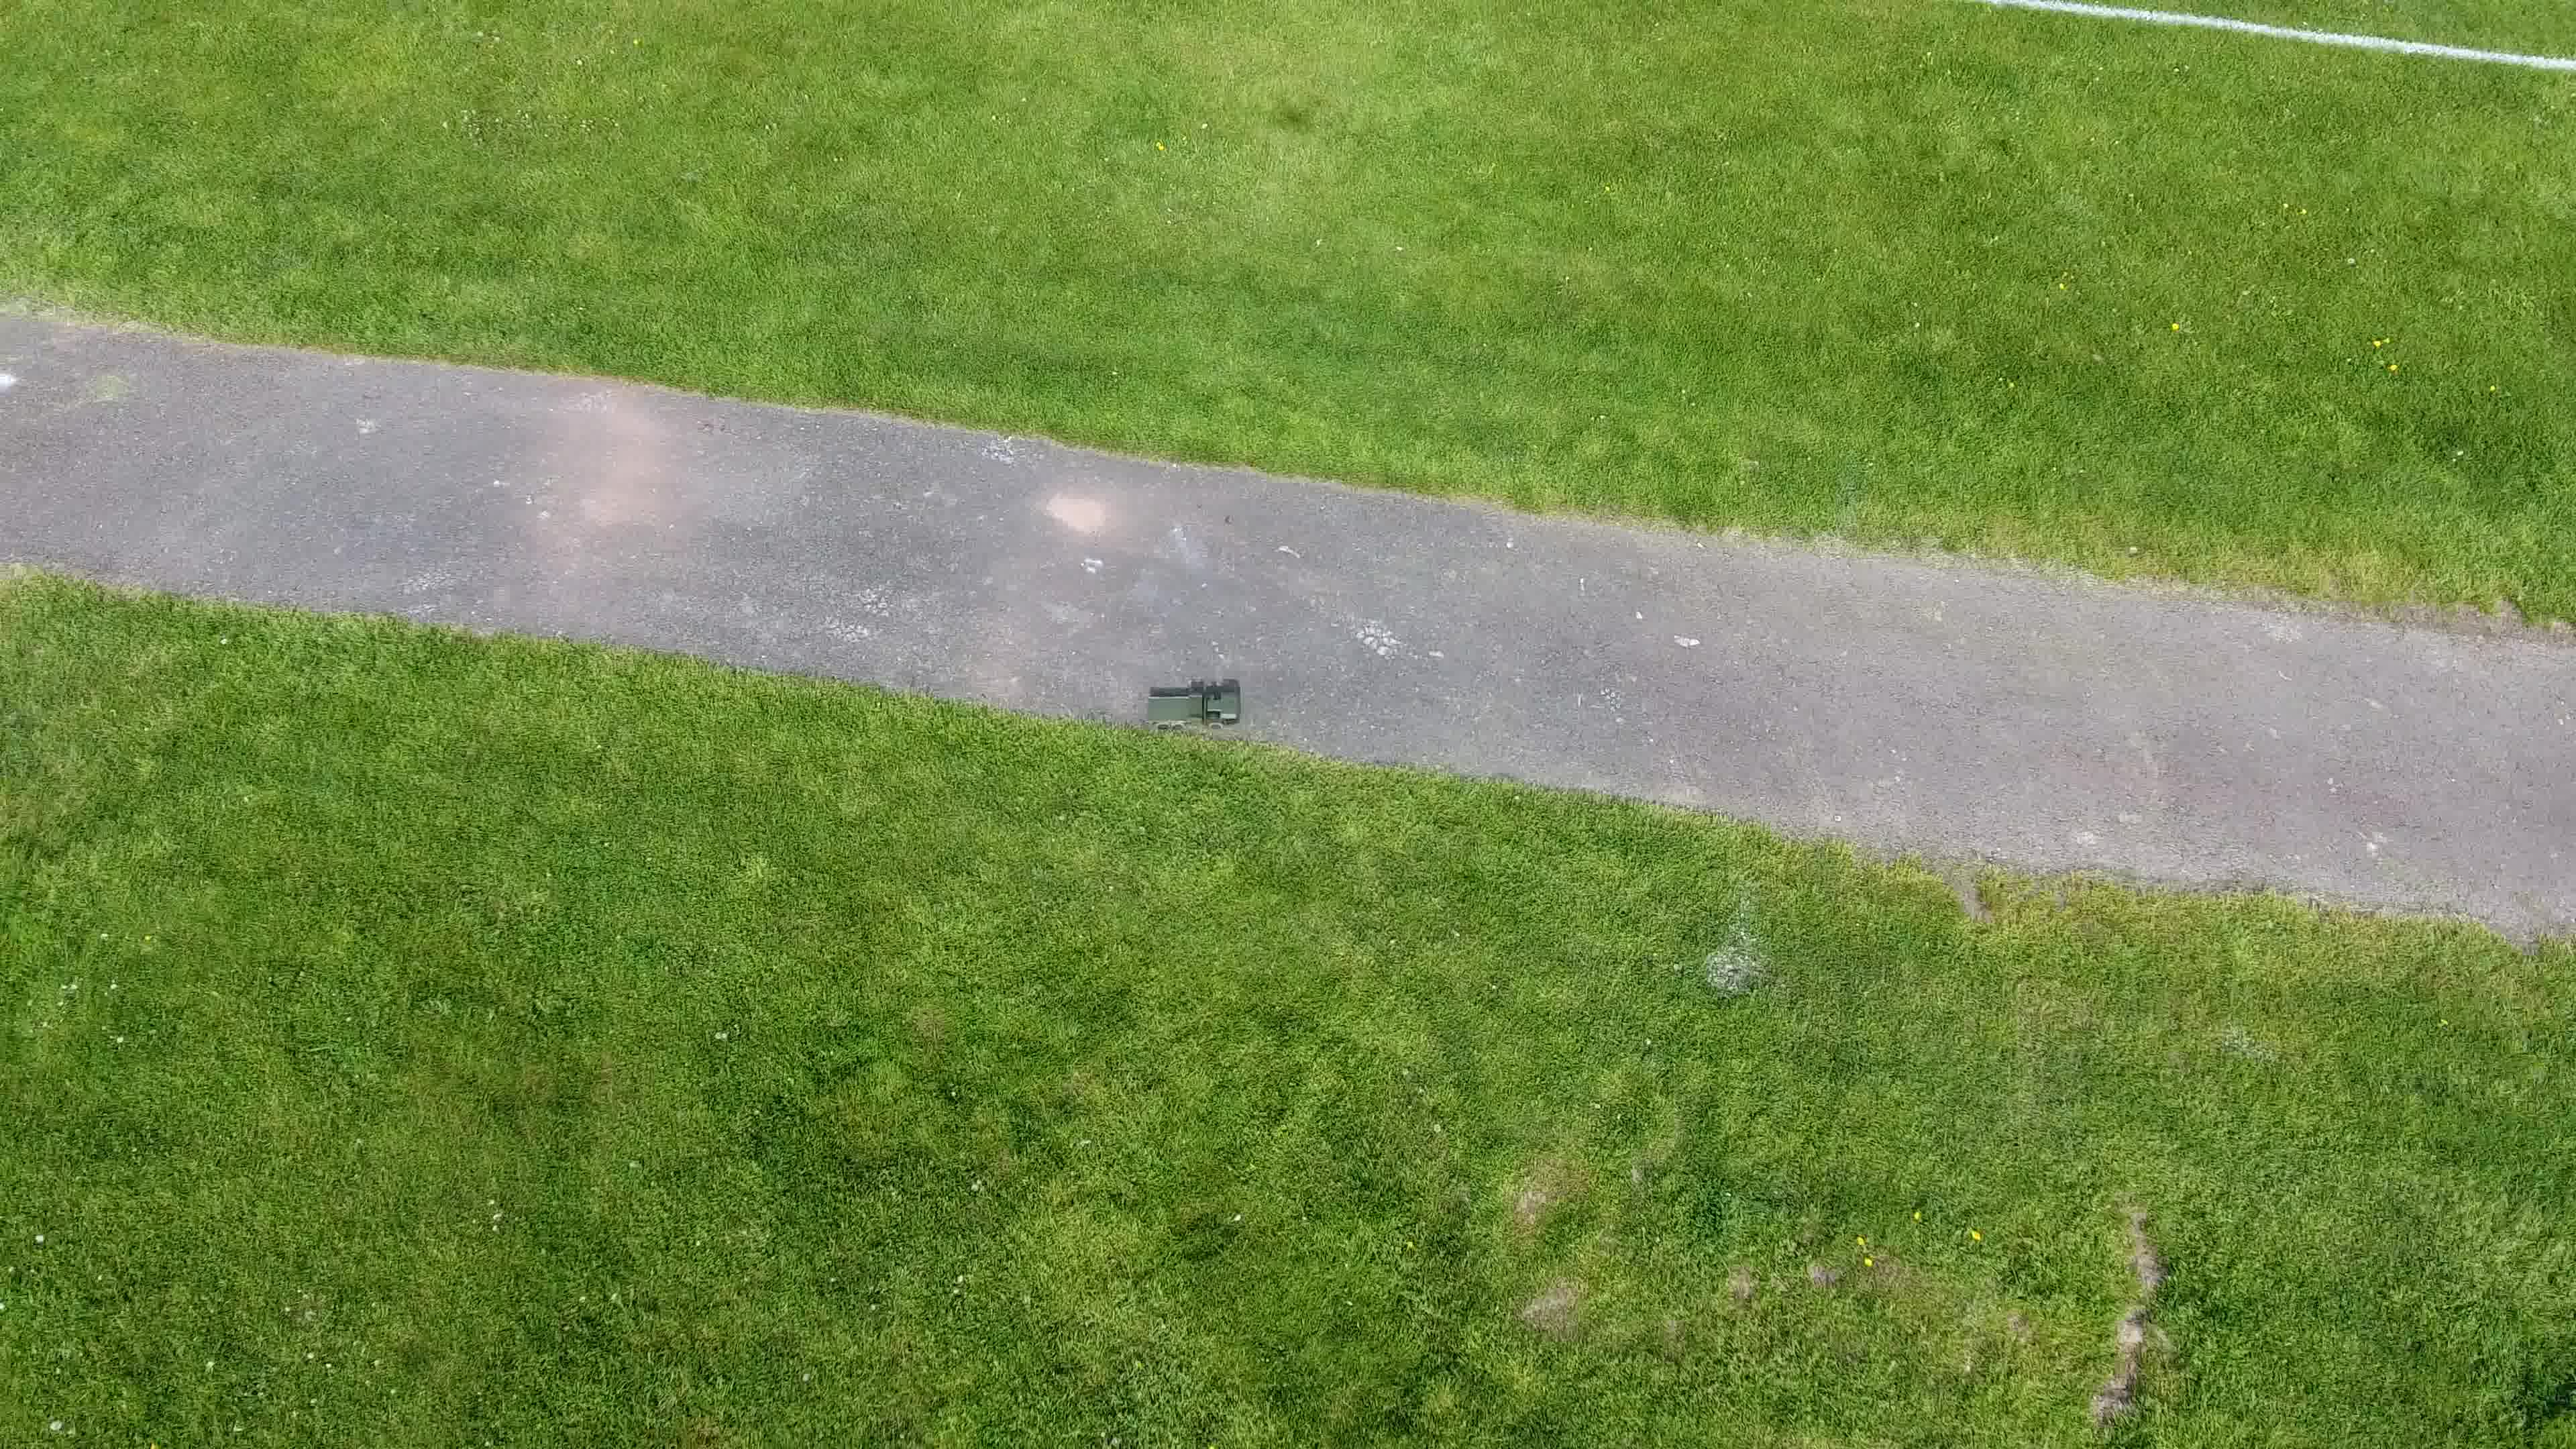transporter9: (1141, 683, 1247, 736)
